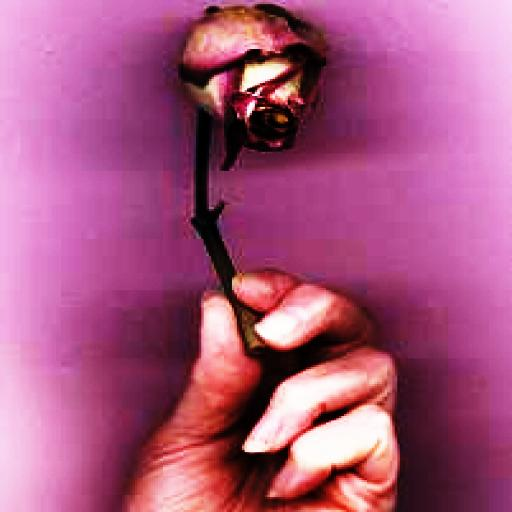rose: (183, 6, 326, 152)
